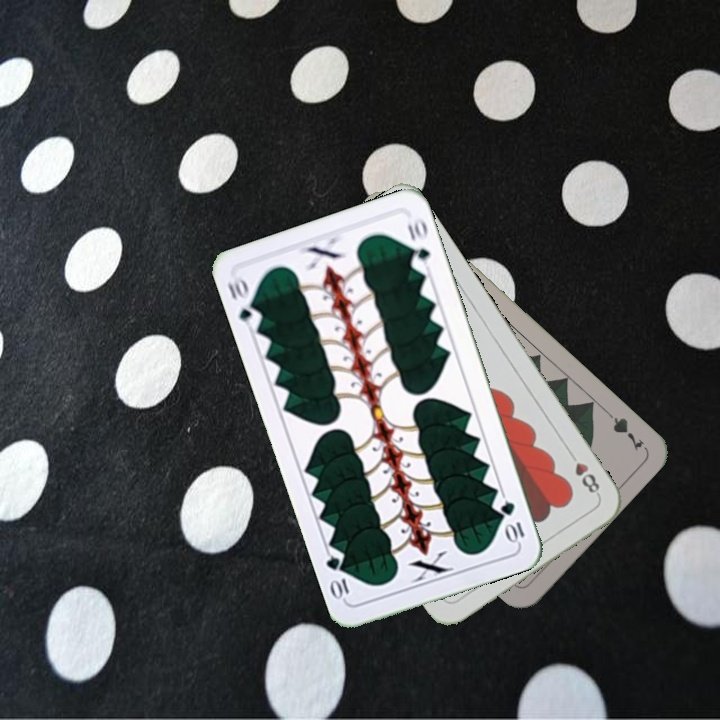G10: (223, 272, 264, 328), (496, 497, 527, 546)
G7: (600, 404, 647, 453)
H8: (564, 447, 603, 499)
